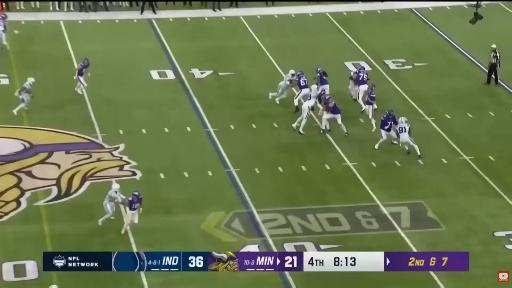Helmet: (318, 89, 326, 97), (132, 190, 140, 197), (310, 84, 318, 91), (398, 117, 407, 123), (289, 69, 296, 76), (0, 13, 7, 19), (323, 94, 330, 100), (112, 183, 119, 189), (27, 78, 34, 83), (386, 110, 393, 115), (369, 84, 375, 89), (316, 68, 322, 73), (83, 58, 89, 63), (298, 71, 303, 76), (358, 67, 365, 70)
Jersey: (380, 115, 397, 132), (325, 98, 341, 114), (305, 91, 321, 106), (18, 82, 32, 98), (106, 190, 124, 202), (397, 123, 410, 139), (365, 88, 376, 106), (128, 197, 142, 211), (77, 62, 90, 77), (356, 70, 368, 85), (317, 70, 328, 85), (298, 75, 309, 89), (317, 91, 326, 105), (284, 74, 295, 85), (350, 72, 357, 85), (0, 20, 7, 32)
Player: (292, 85, 324, 134), (99, 183, 125, 225), (321, 95, 348, 135), (397, 117, 422, 158), (375, 110, 398, 149), (269, 70, 296, 103), (122, 191, 142, 233), (13, 78, 34, 114), (294, 72, 310, 112), (362, 84, 375, 131), (356, 67, 369, 109), (75, 58, 90, 94), (317, 68, 329, 94), (349, 71, 357, 101), (0, 14, 7, 47)
